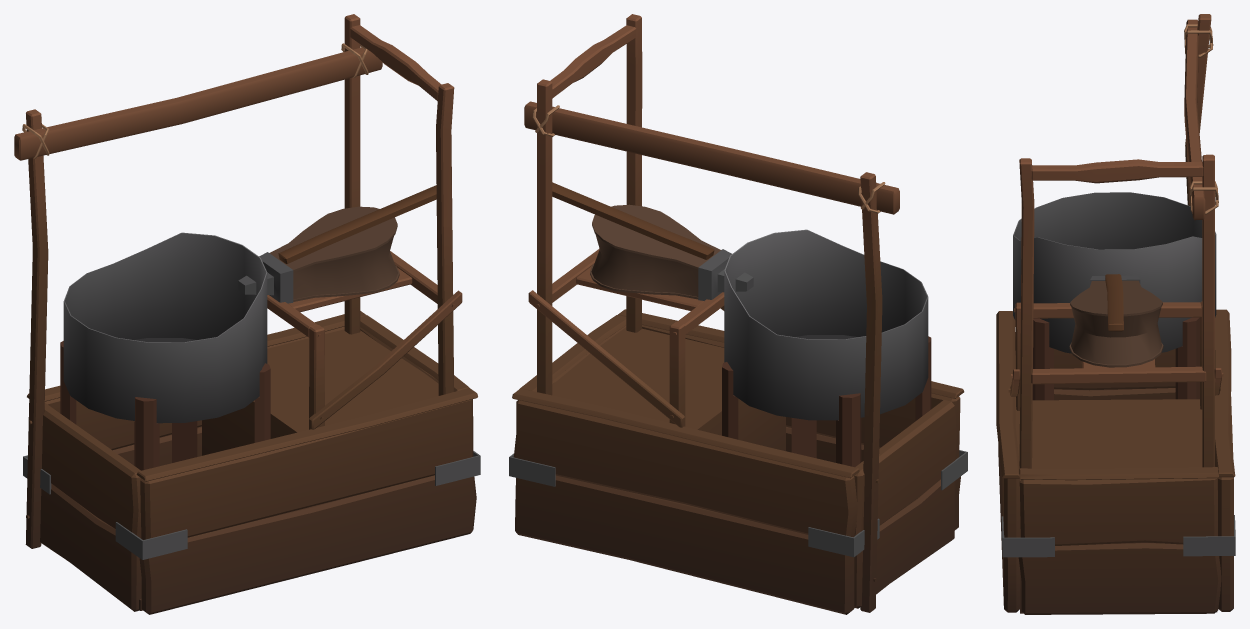
Rendered from Smith_1.fbx.
3 renders of one model, left to right at view 1: azimuth 30°, elevation 25°; view 2: azimuth 150°, elevation 25°; view 3: azimuth 270°, elevation 25°, orthographic.
Parts seen in each view (by area): view 1: Smith_1; view 2: Smith_1; view 3: Smith_1.
Boxes of the visible parts, box(x1,y1,x2,y2) form: Smith_1: box(14, 14, 480, 614); Smith_1: box(509, 14, 967, 614); Smith_1: box(996, 14, 1235, 614).
Bounding box in the file's own units: 154 × 171 × 82.38.
